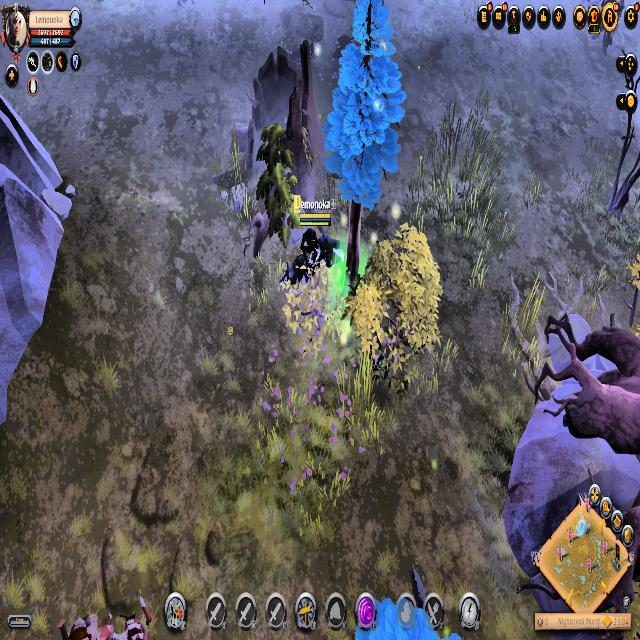wood tier 4: (325, 0, 411, 206)
